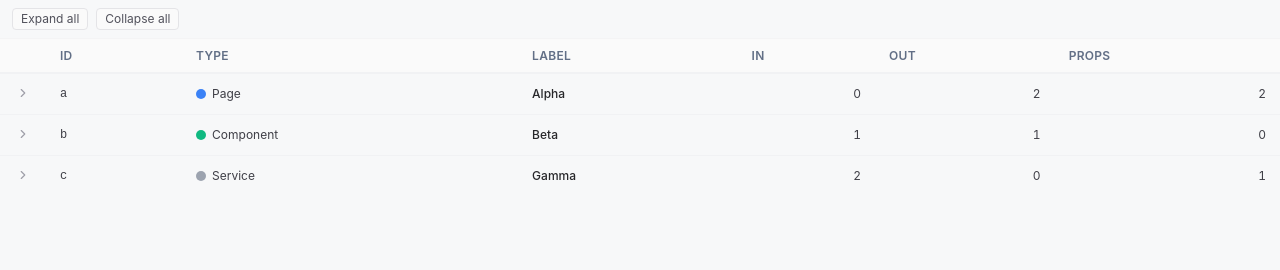
Test: TableView › lists outgoing and incoming edges in the expanded row
The width and height of the screenshot is (1280, 270).
Click the button named "Expand Beta" at point(23, 134), box 14,125 -> 32,143
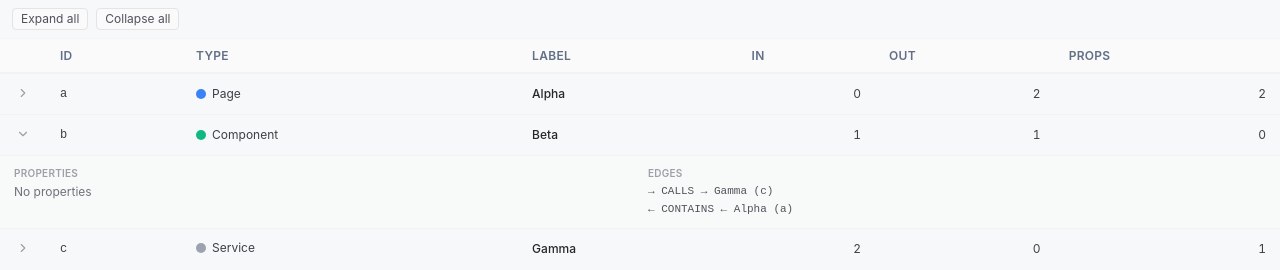
Result: the button "→ CALLS → Gamma (c)" is shown at 648,184 -> 773,200
Result: the button "← CONTAINS ← Alpha (a)" is shown at 648,202 -> 793,218
